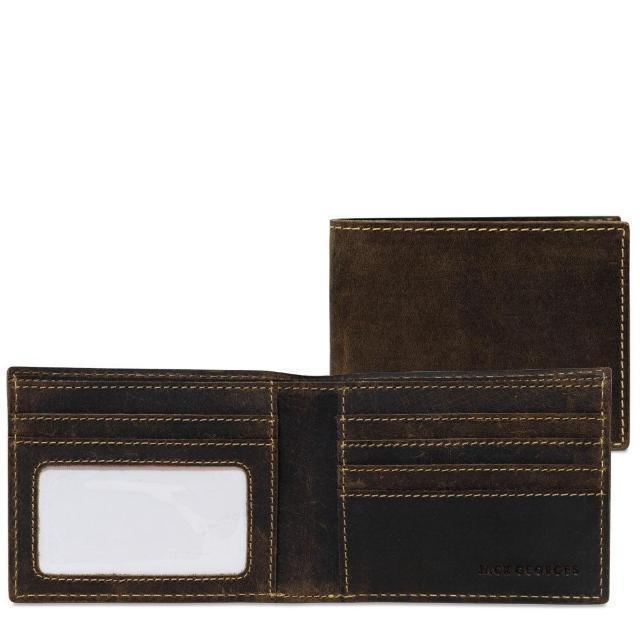wallet: (2, 358, 612, 608), (323, 207, 634, 371)
